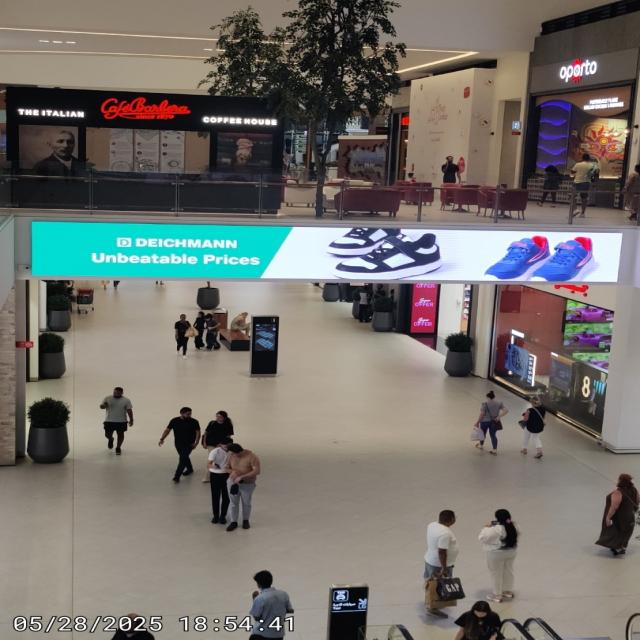rectangle-wide-board: (30, 219, 626, 281)
